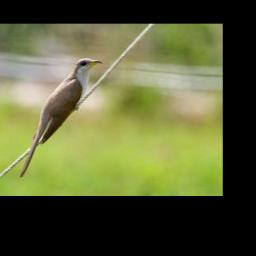Cuckoo: (17, 57, 104, 181)
